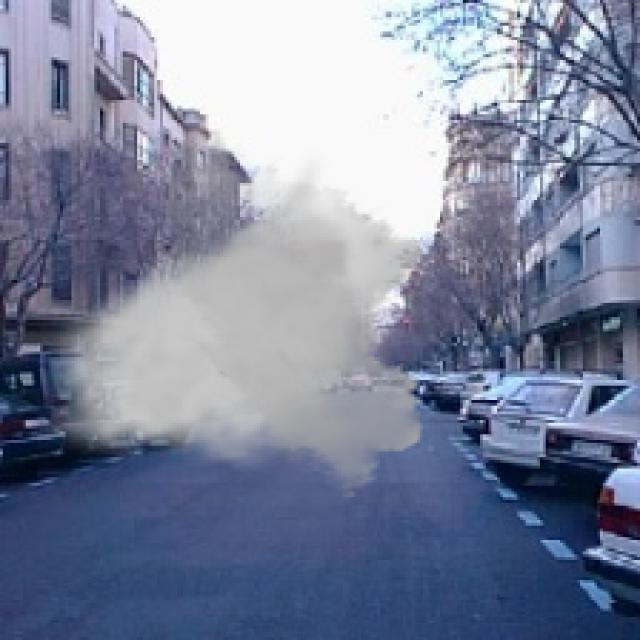Smoke: (37, 120, 434, 500)
